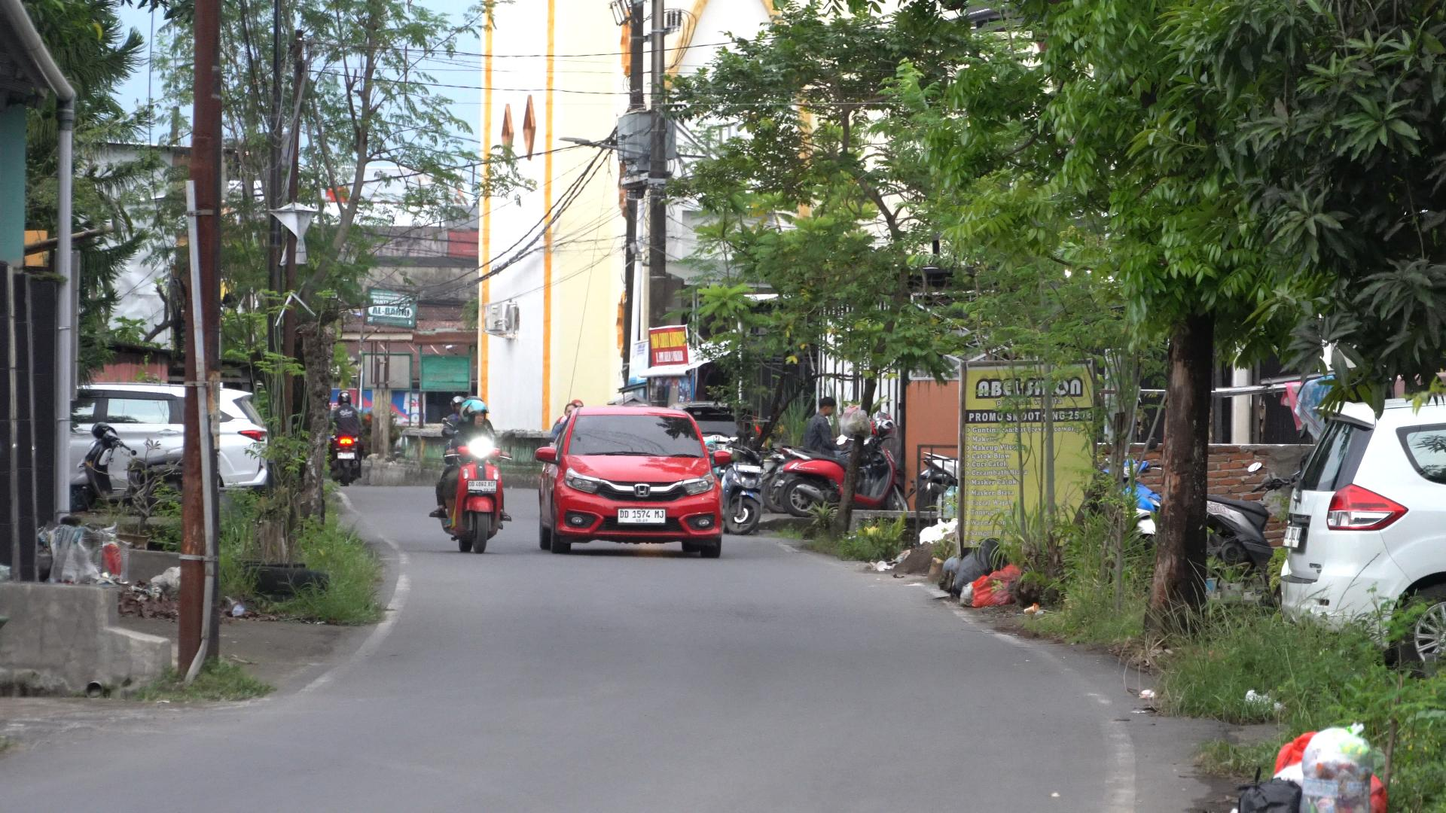number-plate: (468, 477, 500, 496)
